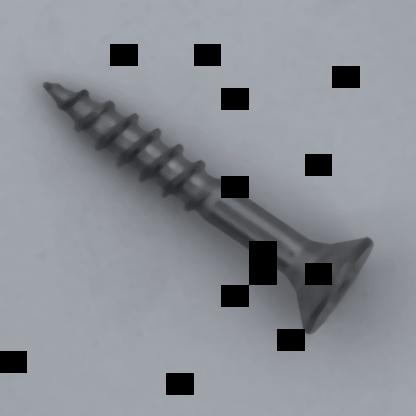metal: (41, 80, 373, 335)
